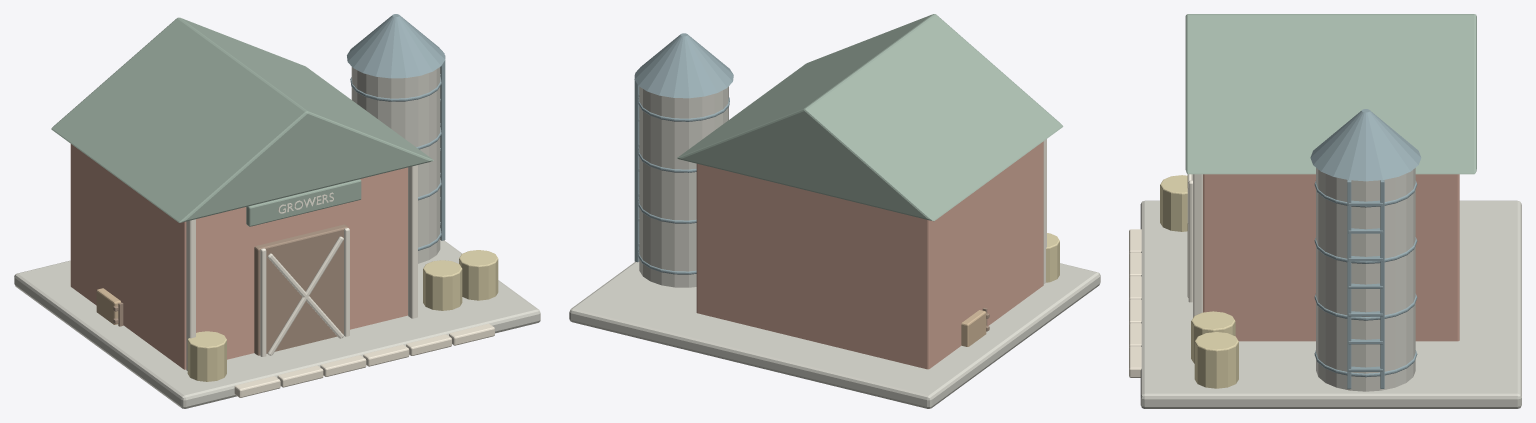
File: farm.glb
3 views of the same model, side by side, from view 1: azimuth 30°, elevation 25°; view 2: azimuth 150°, elevation 25°; view 3: azimuth 270°, elevation 25° (orthographic). The views are drawn at different scales.
Visible parts, largest first — view 1: Green barn roof, Barn walls, Stone foundation.001, Double barn door, Grain silo, Silo conical cap, Gable plaque, Harvest bale.001, Harvest bale, Harvest bale.002, Barn corner timber.001, Barn corner timber (+12 smaller); view 2: Barn walls, Green barn roof, Stone foundation.001, Grain silo, Silo conical cap, Silo ladder rail.001, Crate body.001, Harvest bale, Barn corner timber; view 3: Green barn roof, Stone foundation.001, Barn walls, Grain silo, Silo conical cap, Harvest bale.002, Harvest bale, Barn corner timber.001, Harvest bale.001, Silo ladder rail.001, Silo ladder rail, Door frame.001 (+5 smaller).
Boxes of the visible parts, left/top/right/bottom form: Green barn roof: left=51, top=17, right=433, bottom=222; Barn walls: left=70, top=144, right=407, bottom=369; Stone foundation.001: left=14, top=240, right=540, bottom=408; Double barn door: left=254, top=224, right=348, bottom=355; Grain silo: left=351, top=67, right=440, bottom=263; Silo conical cap: left=347, top=14, right=445, bottom=78; Gable plaque: left=246, top=179, right=361, bottom=226; Harvest bale.001: left=423, top=260, right=462, bottom=310; Harvest bale: left=187, top=331, right=226, bottom=381; Harvest bale.002: left=459, top=250, right=498, bottom=300; Barn corner timber.001: left=408, top=165, right=417, bottom=318; Barn corner timber: left=186, top=219, right=195, bottom=370; Barn walls: left=696, top=141, right=1043, bottom=369; Green barn roof: left=677, top=14, right=1063, bottom=221; Stone foundation.001: left=569, top=261, right=1100, bottom=408; Grain silo: left=639, top=86, right=728, bottom=287; Silo conical cap: left=634, top=33, right=733, bottom=98; Silo ladder rail.001: left=634, top=75, right=639, bottom=262; Crate body.001: left=961, top=310, right=986, bottom=346; Harvest bale: left=1046, top=233, right=1059, bottom=282; Barn corner timber: left=1043, top=139, right=1046, bottom=283; Green barn roof: left=1185, top=14, right=1476, bottom=174; Stone foundation.001: left=1140, top=200, right=1521, bottom=408; Barn walls: left=1203, top=174, right=1459, bottom=341; Grain silo: left=1316, top=168, right=1415, bottom=391; Silo conical cap: left=1310, top=109, right=1421, bottom=181; Harvest bale.002: left=1194, top=332, right=1238, bottom=388; Harvest bale: left=1160, top=175, right=1187, bottom=231; Barn corner timber.001: left=1193, top=174, right=1202, bottom=317; Harvest bale.001: left=1191, top=311, right=1235, bottom=363; Silo ladder rail.001: left=1380, top=180, right=1384, bottom=388; Silo ladder rail: left=1347, top=180, right=1351, bottom=388; Door frame.001: left=1188, top=180, right=1192, bottom=302.
Bounding box in the file's own units: 6.7 × 4.44 × 5.67.
